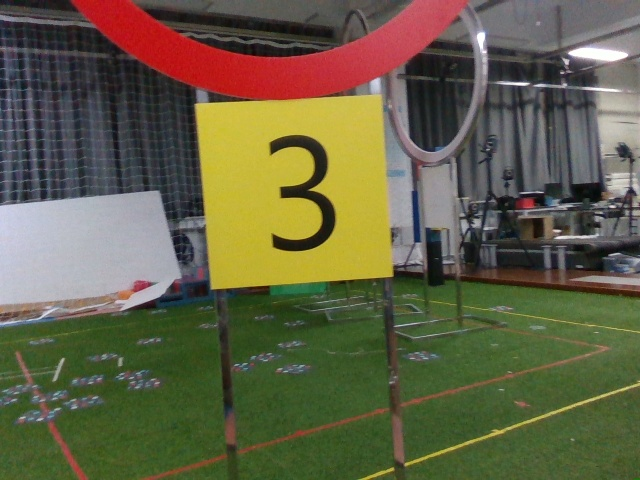target: (214, 102, 377, 277)
